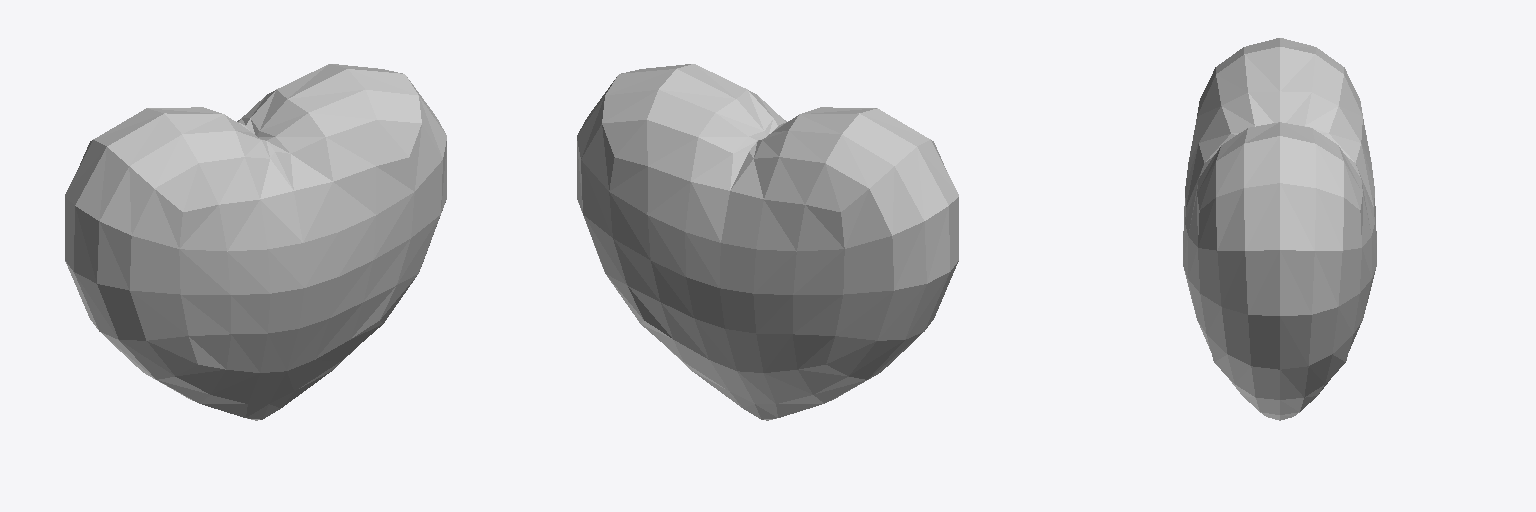
The model's file is heart_object_final.obj.
3 views of the same model, side by side, from view 1: azimuth 30°, elevation 25°; view 2: azimuth 150°, elevation 25°; view 3: azimuth 270°, elevation 25° (orthographic).
Parts seen in each view (by area): view 1: Vert; view 2: Vert; view 3: Vert.
Boxes of the visible parts, x1,y1,x2,y2 form: Vert: [65, 64, 446, 420]; Vert: [577, 64, 958, 420]; Vert: [1183, 38, 1376, 420].
Bounding box in the file's own units: 0.5657 × 0.4891 × 0.2613.